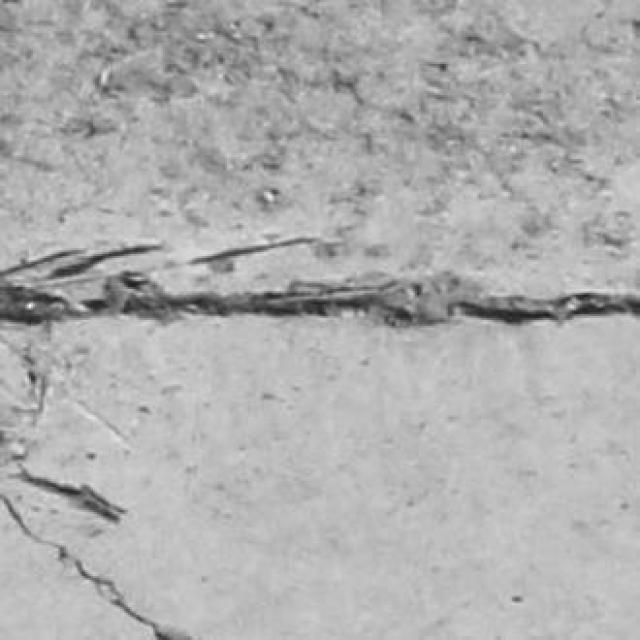crack: (0, 272, 638, 322), (0, 495, 193, 639), (14, 466, 126, 523)
